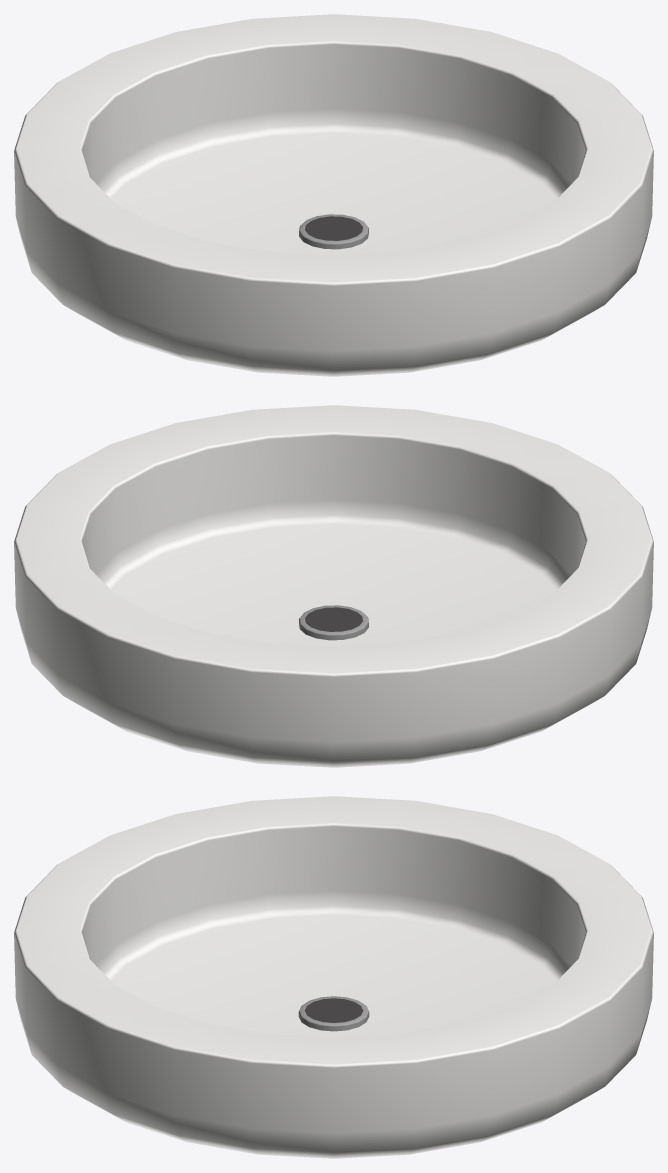
Rendered from Washstand_1.glb.
3 renders of one model, top to bottom at view 1: azimuth 30°, elevation 25°; view 2: azimuth 150°, elevation 25°; view 3: azimuth 270°, elevation 25°, orthographic.
Visible parts, largest first — view 1: Washstand_1; view 2: Washstand_1; view 3: Washstand_1.
Boxes of the visible parts, x1,y1,x2,y2 form: Washstand_1: (14,14,653,376); Washstand_1: (14,405,653,767); Washstand_1: (14,796,653,1158).
Size of the model in its own units: 0.8086 by 0.1459 by 0.8086.
Materials: 1 (1 with a texture image).
